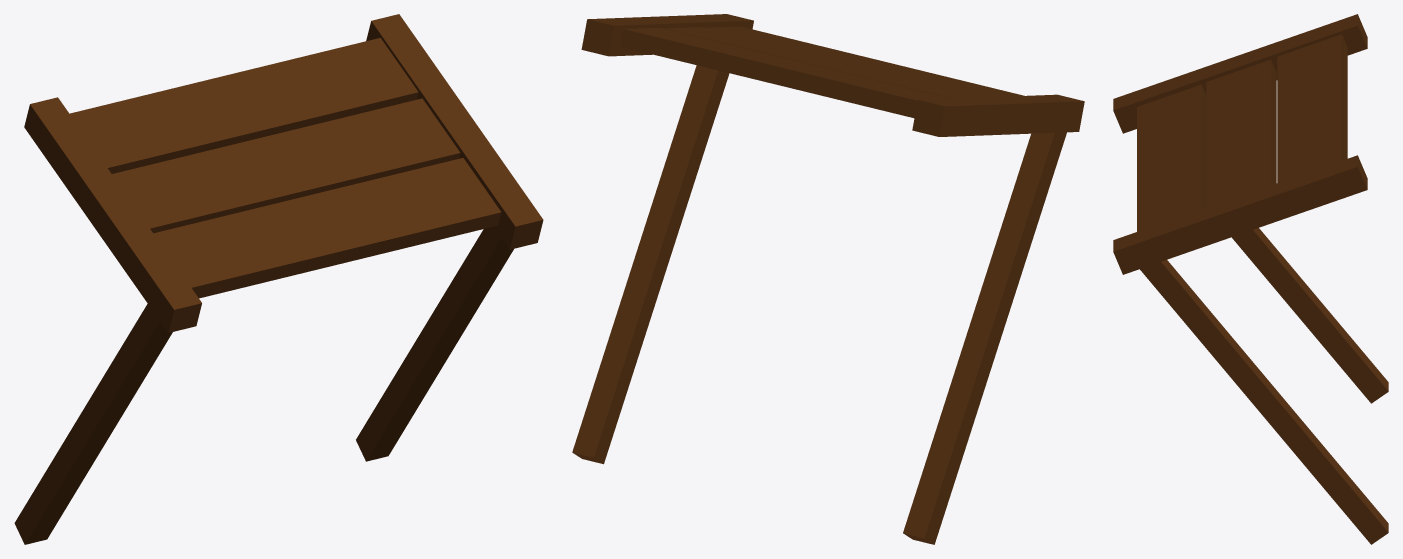
The model's file is MBS_City_WindowSunProtection.fbx.
3 views of the same model, side by side, from view 1: azimuth 30°, elevation 25°; view 2: azimuth 150°, elevation 25°; view 3: azimuth 270°, elevation 25° (orthographic). The views are drawn at different scales.
Visible parts, largest first — view 1: Cube.843; view 2: Cube.843; view 3: Cube.843.
Part boxes in pixels (x1=…): Cube.843: x1=14, y1=14, x2=543, y2=544; Cube.843: x1=572, y1=14, x2=1084, y2=544; Cube.843: x1=1113, y1=14, x2=1388, y2=544.
Bounding box in the file's own units: 328 × 380 × 250.
